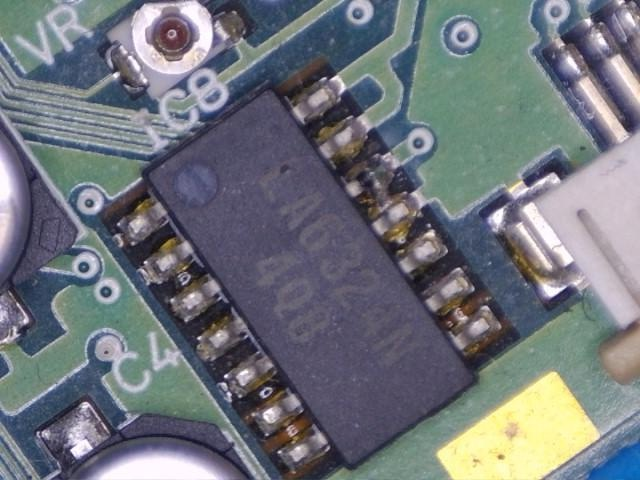pcb_defect: (344, 153, 408, 237)
